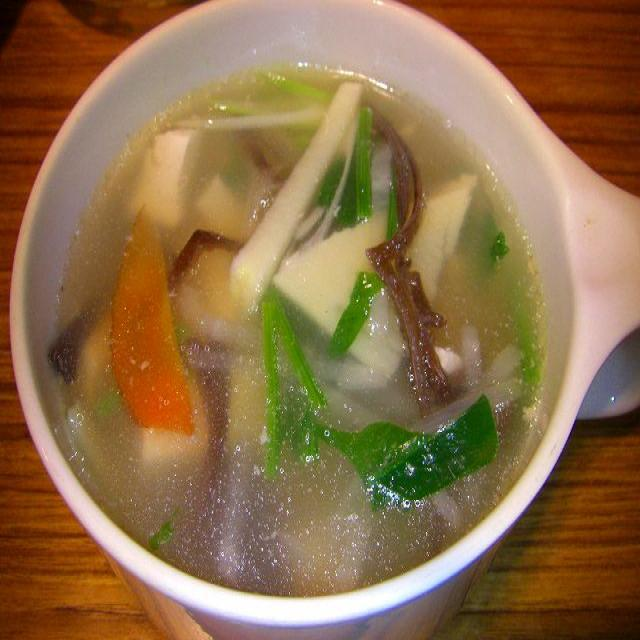汤锅炖物: (8, 0, 590, 640)
